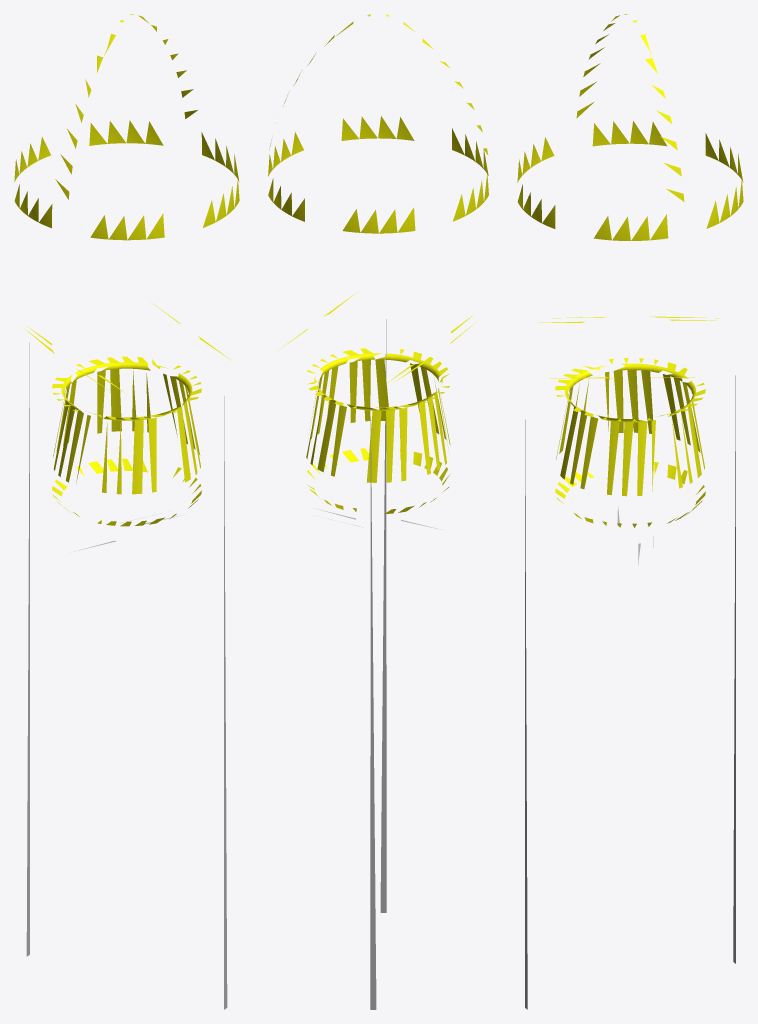
3 renders of one model, left to right at view 1: azimuth 30°, elevation 25°; view 2: azimuth 150°, elevation 25°; view 3: azimuth 270°, elevation 25°, orthographic. The views are drawn at different scales.
Parts seen in each view (by area): view 1: F19721000063101014111_001_zb_ub_stift_11_ba.1 (×2); view 2: F19721000063101014111_001_zb_ub_stift_11_ba.1 (×2); view 3: F19721000063101014111_001_zb_ub_stift_11_ba.1 (×2).
Boxes of the visible parts, box(x1,y1,x2,y2) form: F19721000063101014111_001_zb_ub_stift_11_ba.1 (×2): box(14, 14, 239, 1009); F19721000063101014111_001_zb_ub_stift_11_ba.1 (×2): box(268, 14, 488, 1009); F19721000063101014111_001_zb_ub_stift_11_ba.1 (×2): box(517, 14, 743, 1009).
Bounding box in the file's own units: 24.5 × 24.06 × 114.
